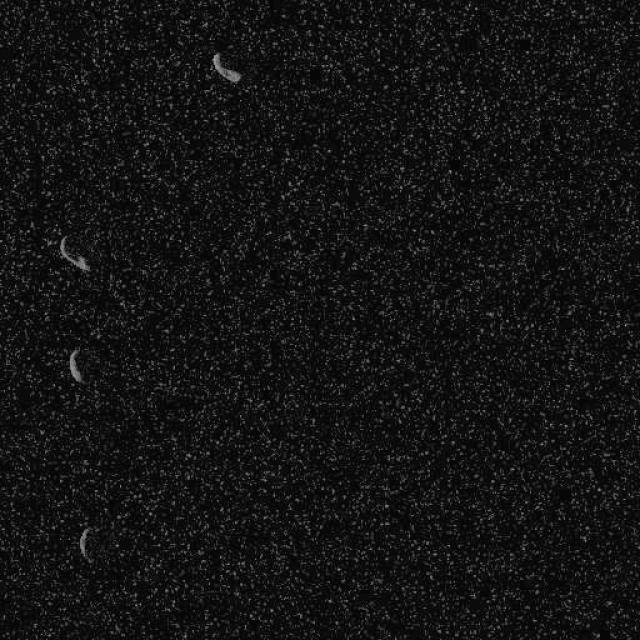D2: (58, 234, 90, 272), (210, 50, 242, 84), (66, 348, 85, 383), (78, 526, 94, 564)
